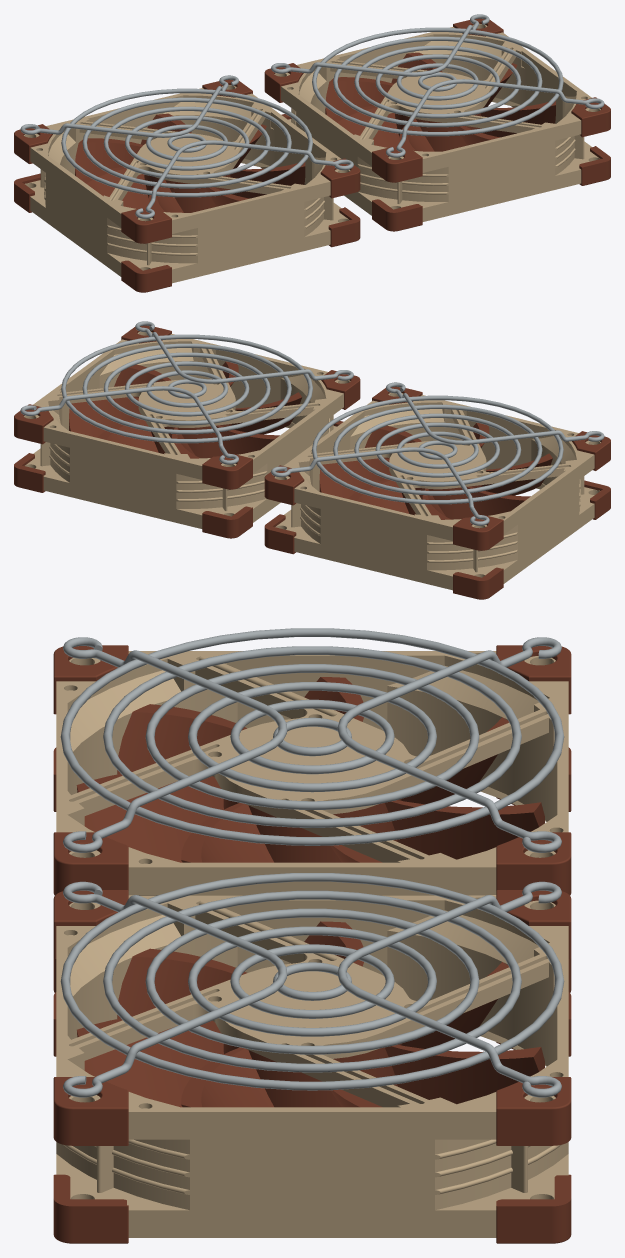
File: 通风系统.fbx
3 views of the same model, one above another, from view 1: azimuth 30°, elevation 25°; view 2: azimuth 150°, elevation 25°; view 3: azimuth 270°, elevation 25° (orthographic). The views are drawn at different scales.
Visible parts, largest first — view 1: Noctua v6.step[1] (×2), Noctua v6.step[10] (×2), Imported5 (×2), Imported2 (×2), Imported1 (×2), Imported4 (×2), Imported8 (×2), Noctua v6.step[3] (×2), Imported7 (×2), Noctua v6.step[7] (×2), Noctua v6.step[4] (×2), Noctua v6.step[6] (×2) (+3 smaller); view 2: Noctua v6.step[1] (×2), Noctua v6.step[10] (×2), Imported5 (×2), Imported2 (×2), Imported1 (×2), Imported8 (×2), Imported4 (×2), Noctua v6.step[2] (×2), Imported7 (×2), Noctua v6.step[8] (×2), Noctua v6.step[5] (×2), Noctua v6.step[9] (×2) (+3 smaller); view 3: Noctua v6.step[1] (×2), Noctua v6.step[10] (×2), Imported5 (×2), Imported2 (×2), Imported1 (×2), Imported4 (×2), Imported8 (×2), Imported7 (×2), Noctua v6.step[4] (×2), Noctua v6.step[5] (×2), Imported3 (×2), Noctua v6.step[6] (+4 smaller).
Boxes of the visible parts, box(x1,y1,x2,y2) form: Noctua v6.step[1] (×2): box(24, 23, 600, 283); Noctua v6.step[10] (×2): box(75, 52, 555, 212); Imported5 (×2): box(61, 27, 563, 197); Imported2 (×2): box(82, 36, 542, 188); Imported1 (×2): box(103, 45, 521, 179); Imported4 (×2): box(135, 79, 604, 218); Imported8 (×2): box(20, 14, 489, 137); Noctua v6.step[3] (×2): box(121, 147, 422, 243); Imported7 (×2): box(125, 54, 499, 170); Noctua v6.step[7] (×2): box(121, 199, 422, 292); Noctua v6.step[4] (×2): box(320, 97, 610, 198); Noctua v6.step[6] (×2): box(328, 146, 610, 247); Noctua v6.step[1] (×2): box(24, 331, 600, 590); Noctua v6.step[10] (×2): box(69, 361, 552, 519); Imported5 (×2): box(61, 334, 563, 504); Imported2 (×2): box(82, 343, 542, 495); Imported1 (×2): box(103, 352, 521, 486); Imported8 (×2): box(20, 386, 489, 525); Imported4 (×2): box(135, 321, 604, 444); Noctua v6.step[2] (×2): box(202, 454, 503, 550); Imported7 (×2): box(125, 361, 499, 477); Noctua v6.step[8] (×2): box(202, 506, 503, 599); Noctua v6.step[5] (×2): box(14, 404, 304, 505); Noctua v6.step[9] (×2): box(14, 453, 296, 554); Noctua v6.step[1] (×2): box(56, 651, 568, 1237); Noctua v6.step[10] (×2): box(76, 677, 544, 1107); Imported5 (×2): box(60, 628, 564, 1090); Imported2 (×2): box(103, 646, 521, 1072); Imported1 (×2): box(145, 664, 479, 1054); Imported4 (×2): box(63, 637, 286, 1097); Imported8 (×2): box(337, 637, 561, 1097); Imported7 (×2): box(188, 682, 436, 1036); Noctua v6.step[4] (×2): box(53, 832, 128, 1145); Noctua v6.step[5] (×2): box(496, 832, 571, 1145); Imported3 (×2): box(230, 699, 394, 1018); Noctua v6.step[6]: box(53, 1174, 128, 1243).
Size of the model in its own units: 19.7 by 3.28 by 9.3.
